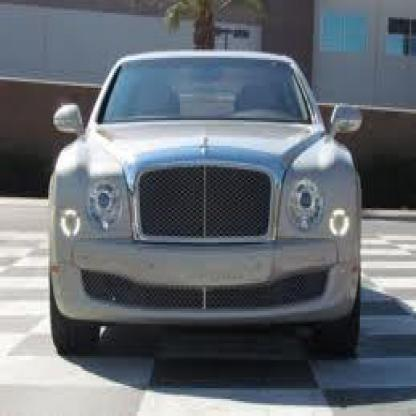Vehicle: (48, 53, 368, 354)
